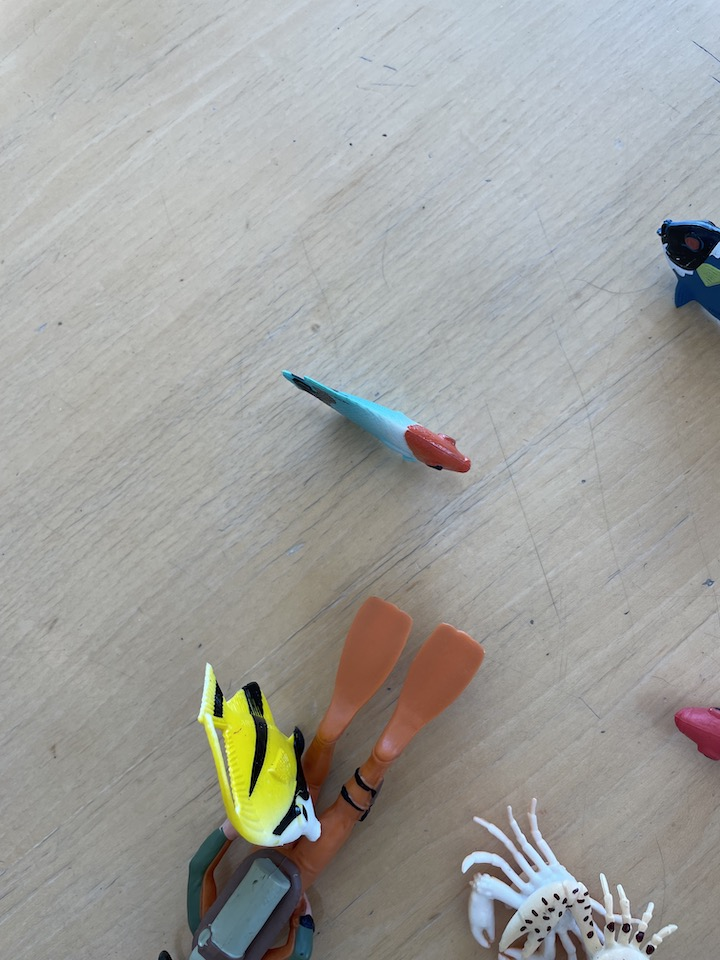crab: (460, 792, 614, 960), (498, 873, 680, 960)
danger: (191, 658, 325, 846)
diver: (156, 594, 489, 960)
fish: (279, 365, 478, 479), (653, 213, 720, 332), (670, 701, 720, 765)
